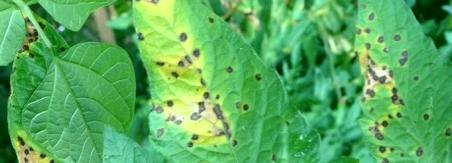Tomato Septoria leaf spot: (126, 0, 324, 163), (353, 0, 452, 163)
